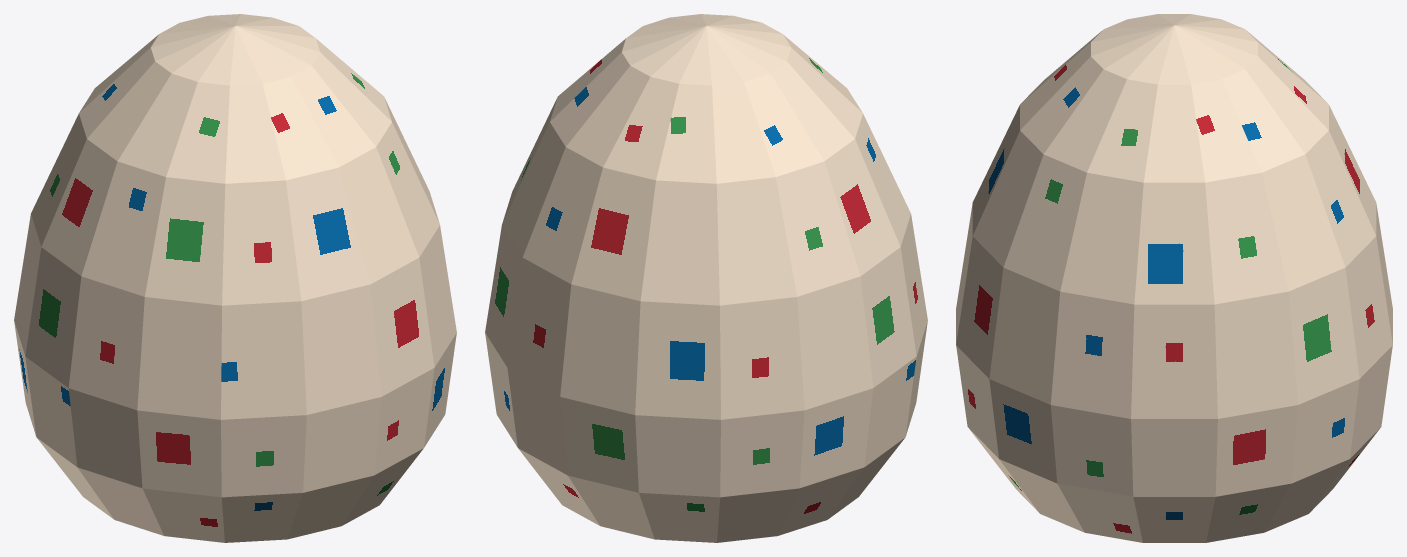
File: W.egg.gltf
The picture shows the model from 3 angles, left to right: view 1: azimuth 30°, elevation 25°; view 2: azimuth 150°, elevation 25°; view 3: azimuth 270°, elevation 25°; orthographic projection.
Parts seen in each view (by area): view 1: egg; view 2: egg; view 3: egg.
Boxes of the visible parts, left/top/right/bottom form: egg: left=14, top=14, right=456, bottom=542; egg: left=485, top=14, right=927, bottom=542; egg: left=956, top=14, right=1392, bottom=542.
Bounding box in the file's own units: 0.775 × 0.9625 × 0.775.
1 material, 1 textured.
